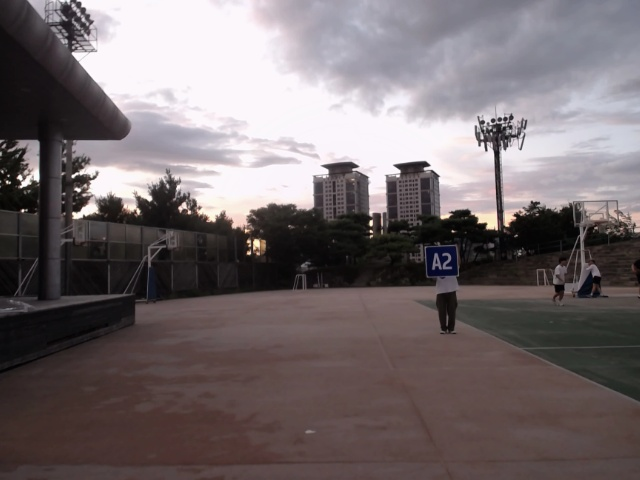delivery_a2: (426, 245, 459, 278)
